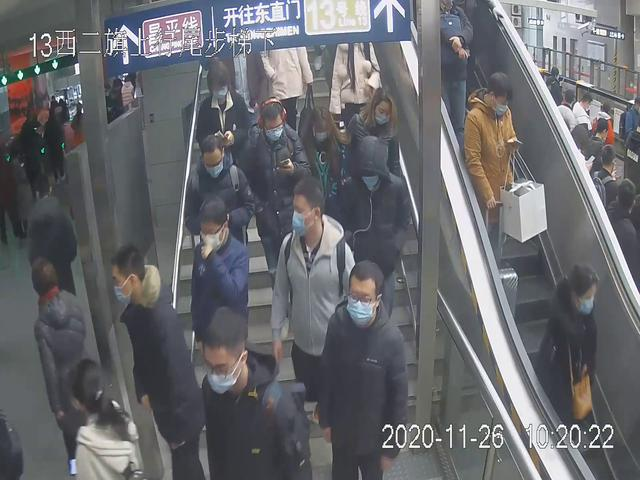person: (106, 242, 206, 477), (267, 175, 357, 422), (457, 67, 545, 318), (315, 260, 410, 480), (241, 96, 314, 321), (534, 260, 606, 448), (194, 193, 252, 367)
